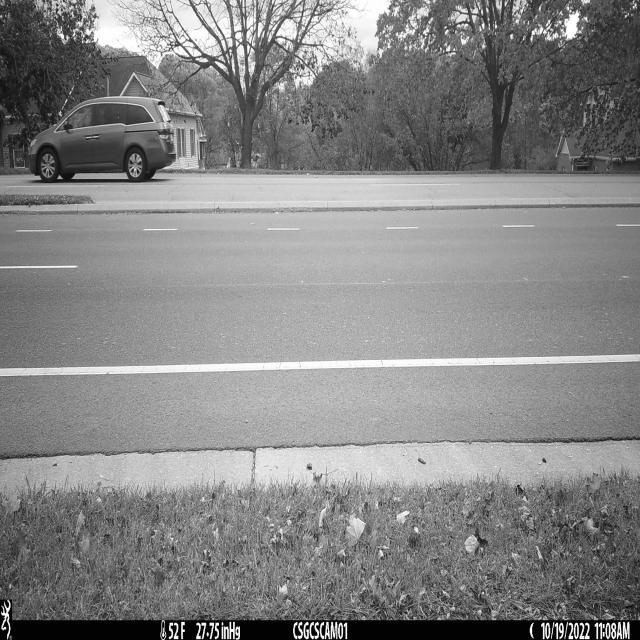Van: (29, 96, 177, 183)
